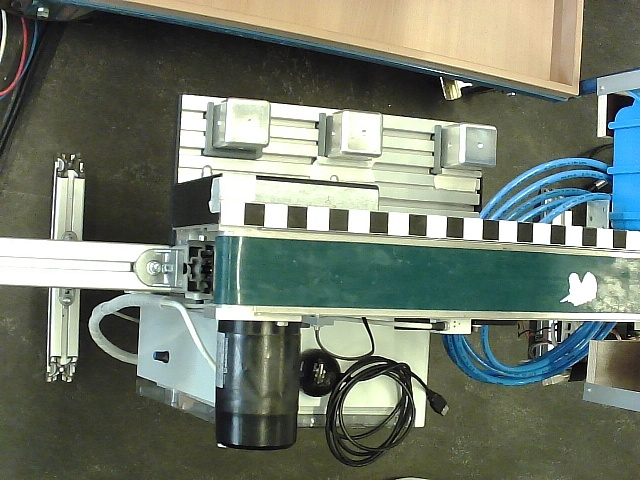unicorn: (558, 271, 599, 307)
